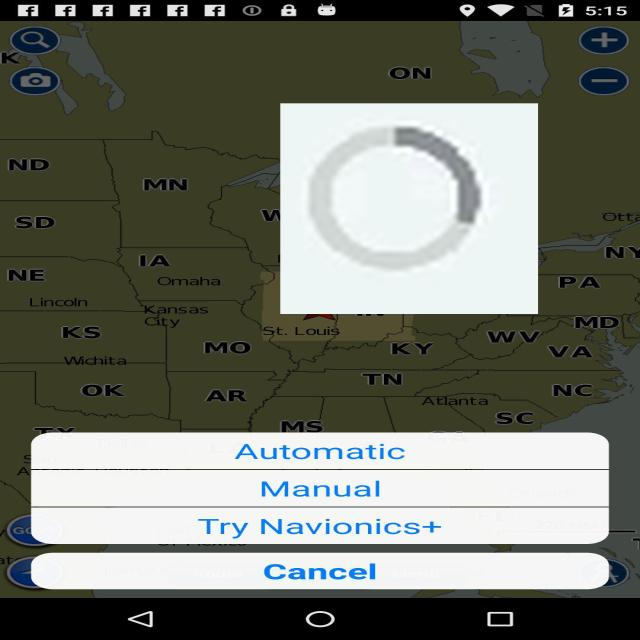misdirection: (280, 103, 538, 314)
